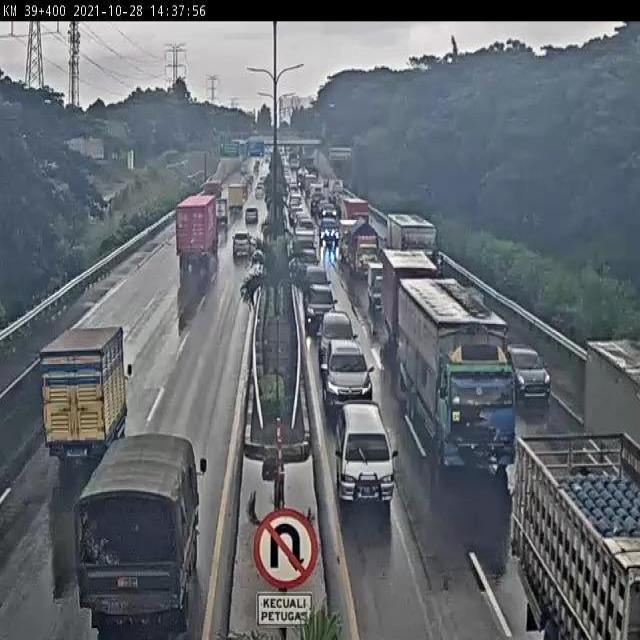car: (490, 325, 529, 383), (210, 198, 232, 230)
truck-l-: (491, 400, 640, 640), (391, 269, 497, 448)
truck-m-: (77, 432, 203, 640), (36, 328, 132, 463)
truck-s-: (226, 187, 246, 225)
truck-xl-: (174, 194, 219, 270)
